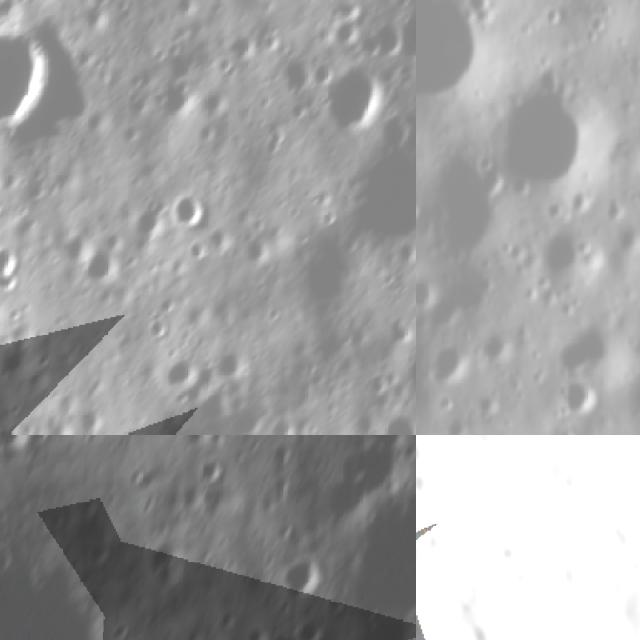crater: (496, 90, 618, 188), (345, 496, 416, 640), (0, 12, 75, 143), (416, 0, 496, 106), (307, 54, 390, 140), (554, 316, 637, 376), (159, 398, 270, 435), (542, 222, 596, 288), (278, 546, 332, 606), (170, 181, 215, 232), (77, 236, 120, 284), (126, 196, 165, 247), (0, 239, 31, 293), (425, 342, 467, 380), (364, 405, 416, 435), (562, 383, 606, 416), (396, 2, 416, 68), (194, 454, 228, 488), (0, 435, 40, 457), (296, 614, 329, 640), (486, 333, 514, 362), (468, 0, 494, 14)
